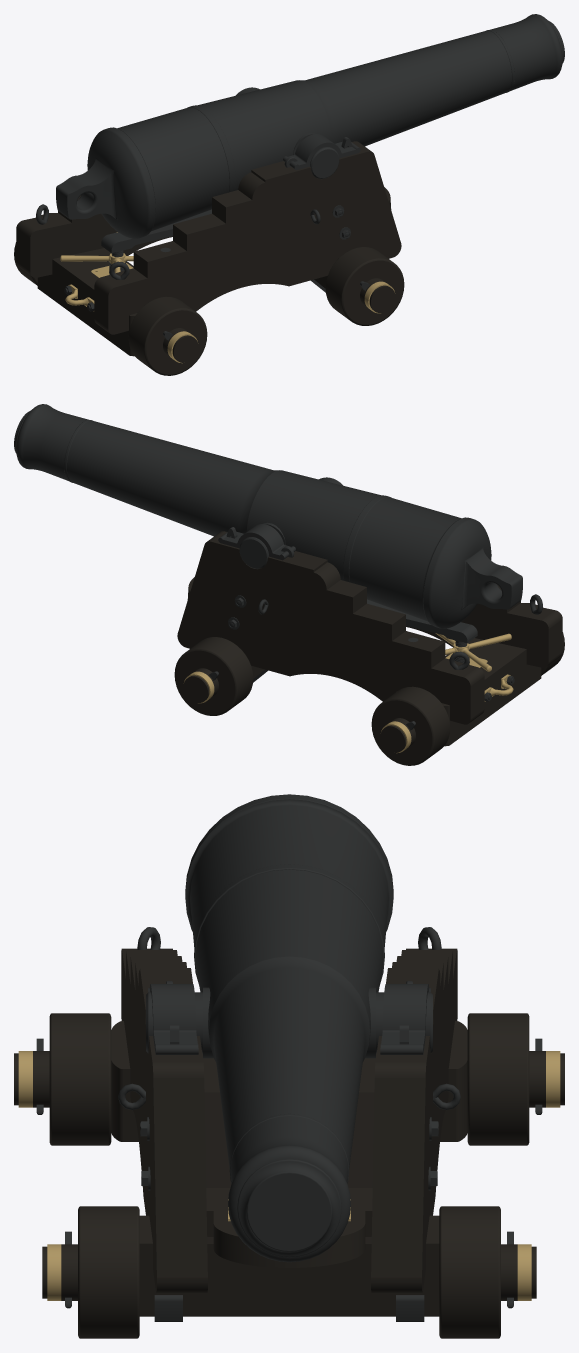
Rendered from cannon.dae.
The picture shows the model from 3 angles, top to bottom: view 1: azimuth 30°, elevation 25°; view 2: azimuth 150°, elevation 25°; view 3: azimuth 270°, elevation 25°; orthographic projection. The views are drawn at different scales.
Parts seen in each view (by area): view 1: group_2 (×5), Group_127 (×2), Group_104 (×2), group_26, group_3, Group_114, Group_148, Group_25, Group_81, Group_80; view 2: group_2 (×5), Group_127 (×2), Group_104 (×2), group_26, group_3, Group_114, Group_148, Group_25, Group_81, Group_80; view 3: group_2 (×6), Group_127 (×2), Group_104 (×4), group_25, Group_114 (×2), Group_131, group_26, group_24, Group_80 (×2), Group_81 (×2), Group_76 (×2), Group_25 (×2) (+5 smaller).
Boxes of the visible parts, x1=… form: group_2 (×5): x1=87, y1=14, x2=564, y2=238; Group_127 (×2): x1=16, y1=141, x2=401, y2=334; Group_104 (×2): x1=128, y1=247, x2=404, y2=375; group_26: x1=37, y1=248, x2=137, y2=356; group_3: x1=56, y1=157, x2=117, y2=220; Group_114: x1=283, y1=134, x2=360, y2=170; Group_148: x1=101, y1=209, x2=211, y2=253; Group_25: x1=310, y1=147, x2=339, y2=178; Group_81: x1=369, y1=285, x2=395, y2=312; Group_80: x1=172, y1=335, x2=198, y2=362; group_2 (×5): x1=14, y1=404, x2=491, y2=628; Group_127 (×2): x1=177, y1=531, x2=562, y2=724; Group_104 (×2): x1=174, y1=637, x2=450, y2=765; group_26: x1=441, y1=638, x2=541, y2=746; group_3: x1=461, y1=547, x2=522, y2=610; Group_114: x1=218, y1=524, x2=295, y2=560; Group_148: x1=367, y1=599, x2=477, y2=643; Group_25: x1=239, y1=537, x2=268, y2=568; Group_81: x1=183, y1=675, x2=209, y2=702; Group_80: x1=380, y1=725, x2=406, y2=752; group_2 (×6): x1=185, y1=794, x2=393, y2=1262; Group_127 (×2): x1=121, y1=948, x2=457, y2=1293; Group_104 (×4): x1=49, y1=1013, x2=529, y2=1338; group_25: x1=139, y1=1215, x2=439, y2=1316; Group_114 (×2): x1=148, y1=984, x2=430, y2=1054; Group_131: x1=204, y1=1066, x2=374, y2=1242; group_26: x1=111, y1=1021, x2=467, y2=1141; group_24: x1=213, y1=1211, x2=365, y2=1267; Group_80 (×2): x1=33, y1=1051, x2=545, y2=1107; Group_81 (×2): x1=61, y1=1244, x2=517, y2=1300; Group_76 (×2): x1=154, y1=1295, x2=424, y2=1321; Group_25 (×2): x1=146, y1=992, x2=432, y2=1053.
Size of the model in its own units: 110 by 58.1 by 44.96.
